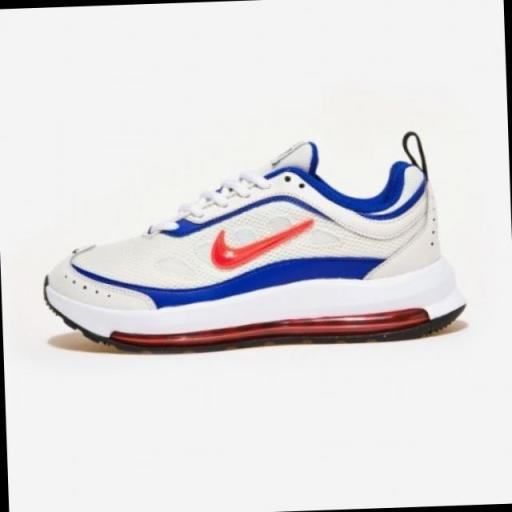Nike: (203, 214, 320, 272)
